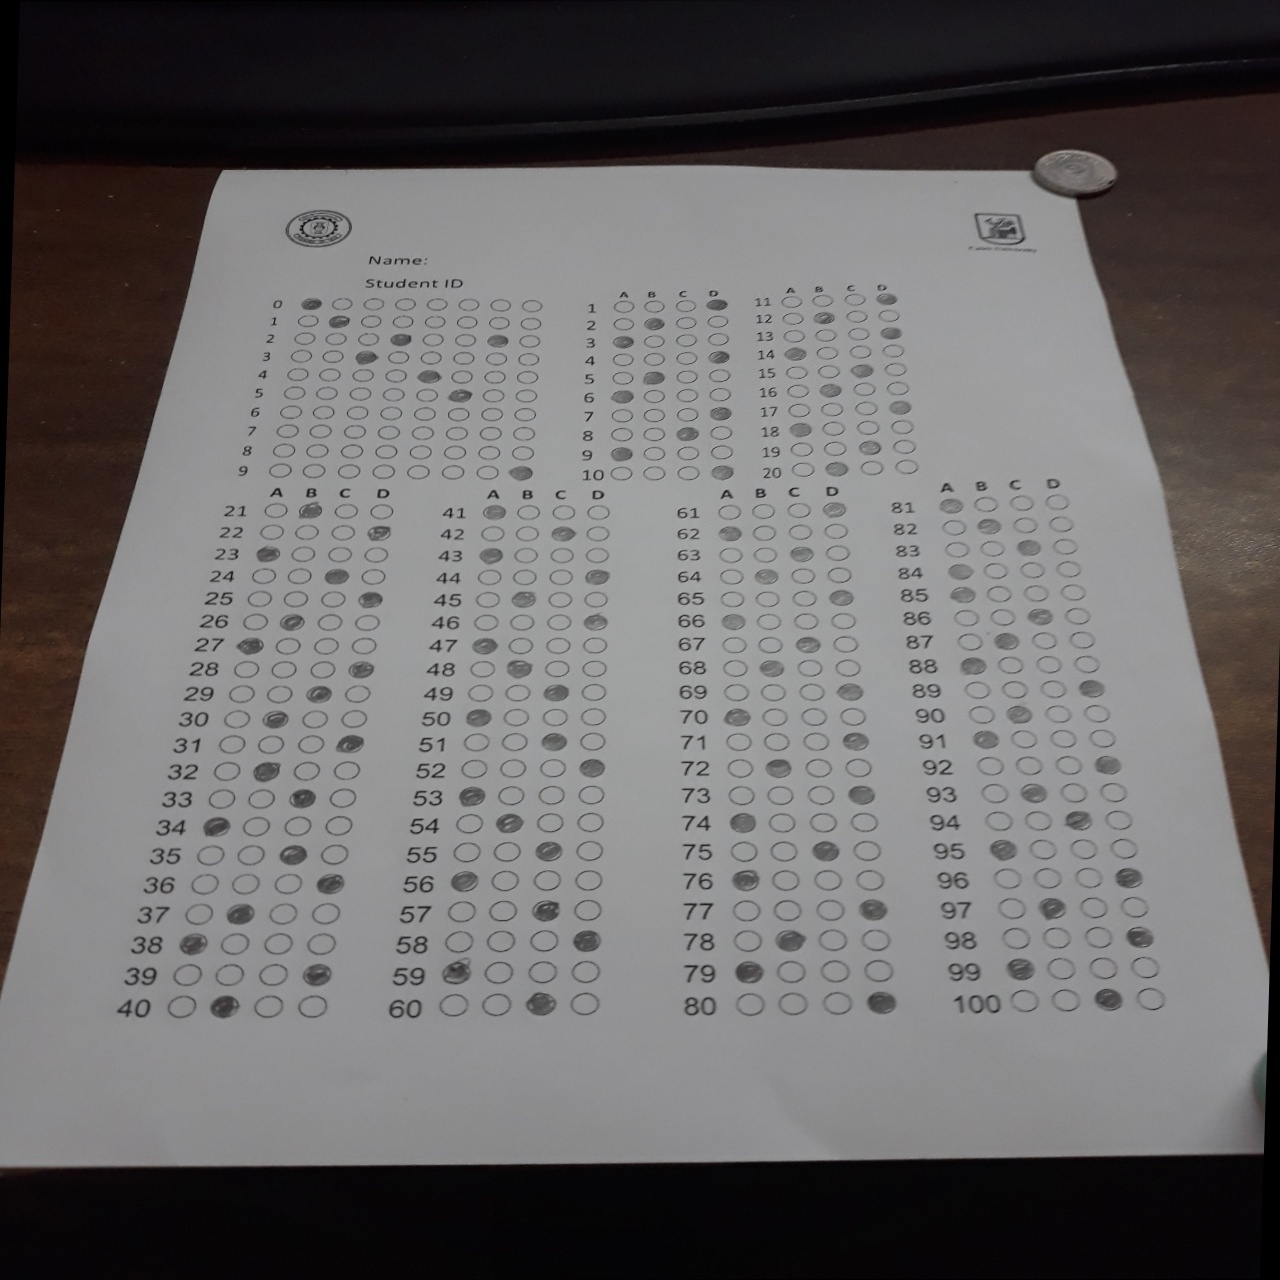not-c: (817, 961, 851, 983), (847, 811, 881, 833), (765, 809, 799, 831), (172, 964, 206, 986), (166, 995, 200, 1017), (481, 992, 512, 1015), (1007, 989, 1040, 1012), (863, 958, 896, 980), (859, 927, 892, 949), (821, 990, 853, 1013), (777, 993, 810, 1015), (734, 994, 767, 1016), (813, 898, 846, 920), (772, 899, 805, 921), (730, 900, 763, 922), (855, 869, 887, 891), (771, 869, 804, 891), (765, 838, 798, 860), (850, 839, 883, 862), (808, 810, 840, 832), (731, 930, 765, 951), (258, 964, 292, 985), (568, 990, 599, 1014), (755, 680, 787, 702), (721, 680, 753, 702), (1081, 926, 1114, 947), (1048, 988, 1081, 1009), (772, 960, 805, 981), (817, 928, 850, 949), (812, 869, 845, 890), (727, 840, 760, 862), (297, 995, 329, 1016), (251, 995, 284, 1016), (213, 964, 246, 985), (726, 783, 756, 805), (806, 782, 837, 804), (843, 756, 873, 778), (722, 730, 753, 753), (762, 730, 792, 753), (836, 706, 866, 728), (797, 679, 828, 701), (440, 994, 470, 1016), (1077, 897, 1109, 918), (1000, 927, 1032, 948), (1044, 958, 1076, 979), (483, 961, 515, 982), (765, 783, 795, 805), (726, 756, 755, 778), (801, 729, 830, 751), (1119, 896, 1150, 917), (762, 706, 792, 727), (568, 961, 599, 982), (1126, 956, 1158, 976), (1041, 928, 1073, 948), (1085, 958, 1117, 978), (1135, 988, 1166, 1008), (325, 815, 356, 835), (237, 844, 268, 864), (801, 755, 830, 776), (798, 704, 828, 726), (451, 840, 481, 862), (527, 961, 557, 982), (573, 899, 602, 920), (195, 845, 224, 866), (282, 815, 313, 835), (309, 903, 340, 922), (232, 873, 263, 893), (190, 874, 220, 894), (183, 904, 213, 924), (218, 932, 248, 952), (307, 933, 338, 953), (256, 735, 287, 754), (318, 845, 349, 864), (573, 870, 602, 890), (490, 870, 519, 890), (488, 900, 517, 920), (443, 932, 472, 952), (333, 760, 362, 779), (274, 873, 304, 893), (268, 903, 298, 922), (263, 933, 292, 953), (1068, 839, 1098, 858), (1108, 839, 1138, 858), (1033, 867, 1063, 886), (241, 817, 272, 836), (576, 840, 602, 862), (1055, 754, 1083, 774), (536, 785, 564, 805), (536, 812, 564, 832), (498, 784, 526, 804), (532, 870, 560, 890), (493, 842, 522, 862), (455, 812, 483, 832), (447, 901, 475, 921), (486, 931, 515, 951), (527, 930, 556, 949), (329, 787, 358, 806), (981, 782, 1010, 801), (1101, 810, 1130, 829), (983, 810, 1013, 829), (1029, 839, 1058, 858), (1074, 869, 1103, 887), (993, 867, 1022, 886), (293, 761, 322, 779), (294, 734, 324, 753), (756, 635, 782, 656), (751, 520, 777, 542), (755, 588, 781, 610), (835, 656, 862, 676), (795, 658, 822, 678), (719, 590, 745, 610), (459, 757, 486, 777), (300, 709, 331, 727), (1014, 755, 1042, 774), (975, 754, 1003, 772), (1098, 781, 1126, 799), (1023, 810, 1051, 829), (996, 898, 1024, 917), (247, 788, 275, 806), (212, 762, 241, 779), (338, 708, 367, 726), (831, 611, 857, 631), (822, 519, 847, 539), (791, 588, 817, 608), (792, 611, 818, 631), (788, 520, 813, 540), (751, 544, 777, 564), (719, 545, 744, 565), (719, 568, 744, 588), (754, 612, 779, 632), (503, 706, 529, 726), (1058, 783, 1085, 802), (965, 704, 993, 722), (266, 686, 294, 703), (207, 790, 236, 808), (722, 658, 747, 678), (833, 633, 858, 653), (828, 565, 852, 585), (825, 542, 850, 561), (750, 499, 775, 519), (791, 566, 816, 586), (955, 631, 981, 649), (542, 707, 567, 726), (501, 731, 526, 750), (1032, 631, 1058, 648), (1024, 584, 1051, 601), (978, 538, 1005, 556), (986, 584, 1013, 601), (952, 607, 979, 625), (1000, 680, 1027, 697), (1039, 679, 1065, 696), (1048, 729, 1075, 747), (474, 591, 501, 608), (576, 812, 602, 830), (320, 590, 347, 607), (275, 636, 302, 654), (309, 660, 336, 678), (271, 660, 298, 678), (229, 685, 256, 702), (722, 635, 745, 655), (787, 499, 810, 519), (579, 731, 604, 750), (464, 731, 489, 750), (540, 760, 565, 778), (501, 757, 525, 776), (343, 685, 372, 701), (223, 712, 251, 728), (1069, 629, 1095, 647), (973, 493, 999, 511), (982, 560, 1008, 578), (579, 707, 605, 724), (222, 735, 247, 753), (1074, 654, 1101, 670), (1046, 704, 1073, 721), (1012, 515, 1039, 531), (1010, 492, 1037, 509), (940, 519, 967, 536), (944, 540, 971, 557), (989, 607, 1016, 624), (998, 654, 1024, 670), (964, 681, 990, 697), (1012, 729, 1039, 745), (1089, 729, 1116, 745), (508, 613, 535, 629), (325, 545, 352, 561), (282, 592, 309, 608), (316, 613, 343, 629), (241, 614, 268, 631), (233, 662, 260, 679), (1064, 605, 1089, 622), (547, 590, 572, 607), (578, 787, 602, 804), (372, 462, 396, 479), (1044, 492, 1070, 509), (1048, 515, 1074, 531), (1053, 537, 1078, 553), (1083, 704, 1109, 721), (1020, 560, 1046, 577), (474, 613, 499, 629), (508, 636, 533, 653), (504, 683, 530, 700), (580, 683, 606, 700), (545, 660, 568, 678), (581, 659, 605, 676), (470, 659, 493, 676), (382, 387, 406, 404), (373, 442, 396, 459), (290, 546, 316, 561), (248, 591, 275, 606), (354, 614, 381, 629), (350, 636, 377, 652), (1035, 655, 1060, 672), (585, 525, 610, 542), (583, 591, 607, 607), (515, 525, 539, 542), (546, 613, 571, 629), (469, 683, 493, 700), (318, 366, 342, 382), (406, 463, 430, 479), (414, 386, 438, 402), (449, 367, 474, 383), (481, 386, 505, 402), (452, 331, 477, 347), (1060, 583, 1085, 598), (286, 568, 312, 584), (251, 568, 277, 584), (312, 638, 338, 653), (423, 313, 445, 331), (717, 503, 741, 519), (552, 503, 576, 519), (517, 503, 540, 519), (481, 524, 504, 540), (477, 568, 501, 585), (511, 567, 535, 584), (549, 568, 572, 585), (546, 636, 570, 653), (334, 503, 358, 519), (264, 502, 287, 518), (260, 523, 284, 539), (331, 525, 354, 542), (267, 463, 291, 479), (272, 442, 295, 458), (275, 422, 299, 438), (287, 365, 311, 381), (314, 384, 338, 401), (306, 443, 329, 459), (302, 463, 326, 479), (335, 463, 359, 479), (340, 443, 363, 459), (350, 366, 374, 382), (380, 406, 403, 422), (375, 423, 399, 440), (442, 463, 465, 479), (444, 423, 468, 440), (476, 464, 499, 481), (513, 386, 537, 402), (515, 368, 538, 384), (518, 332, 542, 348), (789, 441, 812, 457), (1055, 560, 1080, 576), (584, 547, 608, 563), (420, 332, 444, 347), (486, 297, 511, 312), (456, 295, 481, 311), (393, 295, 417, 311), (673, 297, 697, 312), (821, 421, 845, 436), (888, 418, 913, 434), (883, 361, 907, 376), (810, 291, 835, 306), (583, 636, 605, 653), (370, 502, 393, 518), (520, 314, 543, 331), (787, 402, 809, 418), (549, 546, 572, 561), (515, 546, 538, 561), (365, 546, 388, 561), (294, 524, 318, 539), (278, 404, 301, 420), (284, 383, 307, 399), (309, 404, 333, 420), (308, 424, 332, 440), (342, 424, 366, 440), (346, 404, 369, 420), (382, 368, 406, 383), (443, 444, 467, 459), (409, 444, 433, 459), (411, 424, 435, 440), (445, 406, 469, 421), (483, 368, 506, 383), (478, 424, 502, 440), (477, 444, 501, 459), (510, 445, 533, 461), (512, 424, 536, 440), (517, 350, 540, 366), (484, 349, 508, 365), (420, 350, 443, 366), (454, 313, 477, 328), (486, 314, 510, 329), (518, 297, 542, 312), (424, 295, 448, 311), (642, 425, 666, 441), (641, 388, 665, 403), (791, 462, 815, 477), (784, 365, 808, 380), (816, 345, 839, 360), (818, 365, 842, 380), (822, 441, 845, 456), (896, 458, 919, 474), (885, 380, 908, 395), (877, 308, 900, 324), (846, 326, 870, 341), (324, 332, 348, 346), (291, 331, 315, 345), (856, 420, 880, 434), (842, 291, 866, 305), (362, 567, 384, 583), (349, 384, 372, 400), (479, 406, 502, 421), (513, 406, 536, 421), (452, 349, 475, 365), (644, 408, 666, 423), (644, 350, 666, 366), (642, 297, 665, 312), (675, 315, 697, 331), (675, 368, 697, 383), (674, 406, 696, 421), (709, 386, 731, 401), (707, 368, 729, 383), (787, 383, 809, 399), (852, 382, 874, 397), (821, 402, 843, 417), (855, 400, 877, 415), (586, 505, 610, 519), (329, 297, 353, 311), (359, 314, 382, 328), (642, 333, 666, 347), (673, 333, 696, 347), (708, 425, 731, 440), (707, 332, 730, 346), (849, 343, 872, 358), (859, 461, 883, 475), (892, 440, 915, 454), (881, 343, 905, 358), (845, 309, 869, 324), (813, 328, 837, 342), (644, 445, 665, 461), (642, 465, 663, 481), (411, 404, 434, 418), (392, 314, 414, 328), (387, 350, 409, 365), (358, 331, 380, 345), (321, 349, 343, 363), (291, 348, 313, 362), (297, 314, 319, 328), (612, 350, 634, 365), (674, 350, 696, 365), (676, 388, 699, 402), (706, 313, 728, 327), (610, 467, 632, 481), (779, 293, 802, 307), (612, 299, 635, 312), (712, 445, 733, 459), (678, 445, 699, 459), (676, 467, 697, 481), (782, 311, 803, 325), (362, 297, 384, 309), (612, 316, 634, 329), (610, 370, 632, 383), (611, 409, 633, 422), (610, 427, 632, 440), (782, 329, 804, 342)
taken-c: (772, 927, 806, 953), (731, 961, 763, 987), (721, 704, 753, 729), (730, 870, 762, 894), (529, 897, 560, 921), (493, 808, 525, 832), (570, 927, 601, 951), (441, 960, 472, 983), (449, 866, 481, 890), (209, 993, 240, 1016), (728, 812, 758, 836), (524, 990, 554, 1014), (458, 783, 489, 806), (857, 898, 888, 920), (840, 731, 871, 754), (535, 839, 565, 862), (811, 840, 839, 864), (1026, 606, 1056, 627), (278, 843, 308, 864), (177, 933, 207, 954), (828, 587, 856, 610), (846, 784, 874, 806), (988, 839, 1017, 860), (972, 727, 1001, 748), (992, 629, 1021, 651), (947, 584, 976, 605), (944, 560, 973, 581), (869, 990, 898, 1012), (315, 871, 345, 892), (1077, 678, 1108, 697), (1092, 754, 1123, 774), (1112, 867, 1143, 887), (1126, 926, 1157, 946), (1036, 897, 1067, 917), (1020, 782, 1050, 802), (225, 903, 256, 922), (302, 964, 333, 983), (578, 756, 605, 778), (470, 632, 497, 654), (1094, 989, 1125, 1008), (1005, 704, 1033, 726), (540, 731, 568, 753), (465, 706, 493, 727), (542, 680, 570, 701), (580, 610, 608, 631), (1006, 959, 1035, 979), (959, 655, 988, 675), (335, 733, 365, 753), (505, 658, 532, 679), (508, 588, 535, 610), (583, 566, 610, 587), (1065, 809, 1094, 829), (252, 760, 280, 779), (324, 565, 349, 586), (506, 658, 533, 678), (358, 588, 384, 608), (764, 760, 792, 778), (297, 499, 322, 519), (757, 659, 784, 678), (476, 545, 503, 564), (481, 502, 508, 520), (551, 523, 578, 542), (363, 523, 390, 542), (256, 544, 282, 563), (279, 612, 306, 631), (304, 685, 331, 703), (263, 709, 290, 728), (202, 817, 229, 836), (975, 517, 1003, 535), (715, 524, 743, 542), (836, 682, 864, 700), (237, 635, 263, 654), (348, 660, 374, 679), (291, 788, 316, 806), (787, 546, 816, 563), (1014, 538, 1041, 556), (940, 497, 967, 515), (754, 567, 781, 585), (720, 613, 748, 629), (792, 636, 821, 653), (819, 501, 846, 517), (509, 464, 535, 479), (610, 388, 635, 403), (788, 422, 813, 437), (823, 461, 849, 476), (856, 440, 881, 455), (704, 295, 731, 309), (416, 367, 441, 382), (485, 332, 510, 347), (819, 382, 844, 397), (850, 362, 874, 377), (879, 324, 904, 339), (445, 387, 471, 401), (611, 333, 636, 347), (674, 425, 700, 440), (886, 399, 912, 413), (873, 291, 899, 305), (642, 315, 666, 331), (327, 314, 352, 328), (389, 332, 414, 346), (610, 445, 634, 459), (782, 347, 806, 361), (355, 349, 379, 363), (710, 465, 734, 479), (708, 350, 731, 365), (813, 309, 837, 324), (300, 297, 325, 309), (707, 406, 731, 418), (644, 372, 667, 384)
